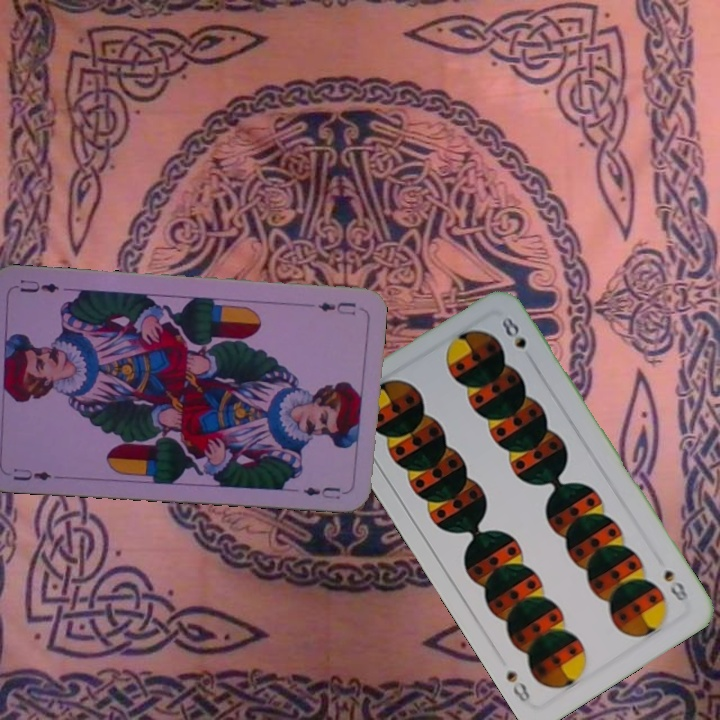EU: (314, 298, 359, 318), (9, 464, 54, 483)
S8: (659, 565, 691, 604)
